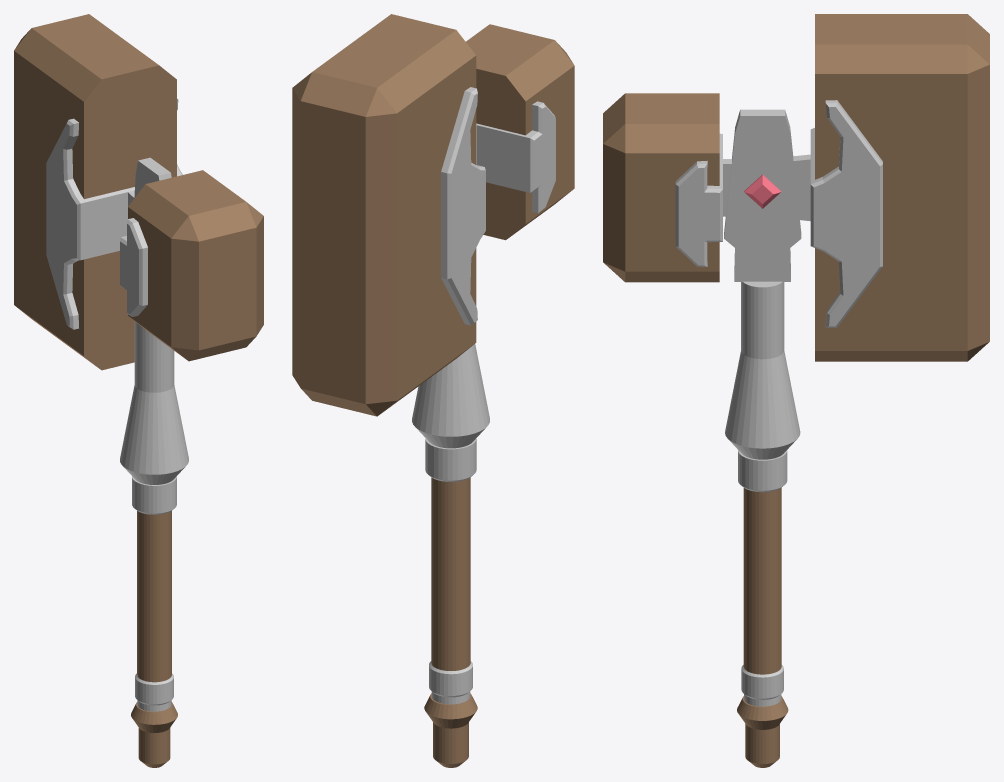
Rendered from CarpentersMallet.fbx.
The picture shows the model from 3 angles, left to right: view 1: azimuth 30°, elevation 25°; view 2: azimuth 150°, elevation 25°; view 3: azimuth 270°, elevation 25°; orthographic projection. The views are drawn at different scales.
Parts seen in each view (by area): view 1: Mallet; view 2: Mallet; view 3: Mallet.
Boxes of the visible parts, x1,y1,x2,y2 form: Mallet: (14,14,263,767); Mallet: (292,14,574,767); Mallet: (603,14,989,767).
Bounding box in the file's own units: 70 × 416 × 198.
